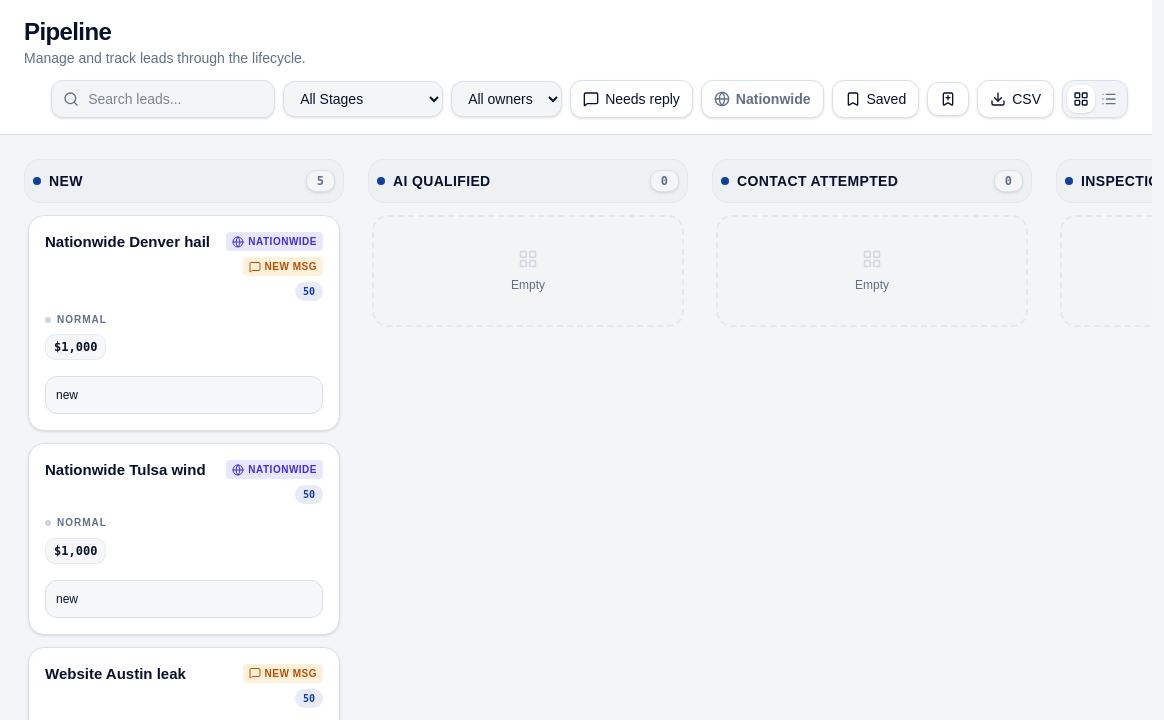
Pipeline compound filters › Mine + Needs-reply keeps my unread leads visible, hides other reps and answered leads; clearing Needs-reply widens back
expect the link "Nationwide Denver hail" is shown: met, box [45,232,210,253]
expect the link "Nationwide Tulsa wind" is shown: met, box [45,460,206,481]
Select "Mine" in the dropdown with test id "owner-filter" at (507, 99), box [451,81,562,117]
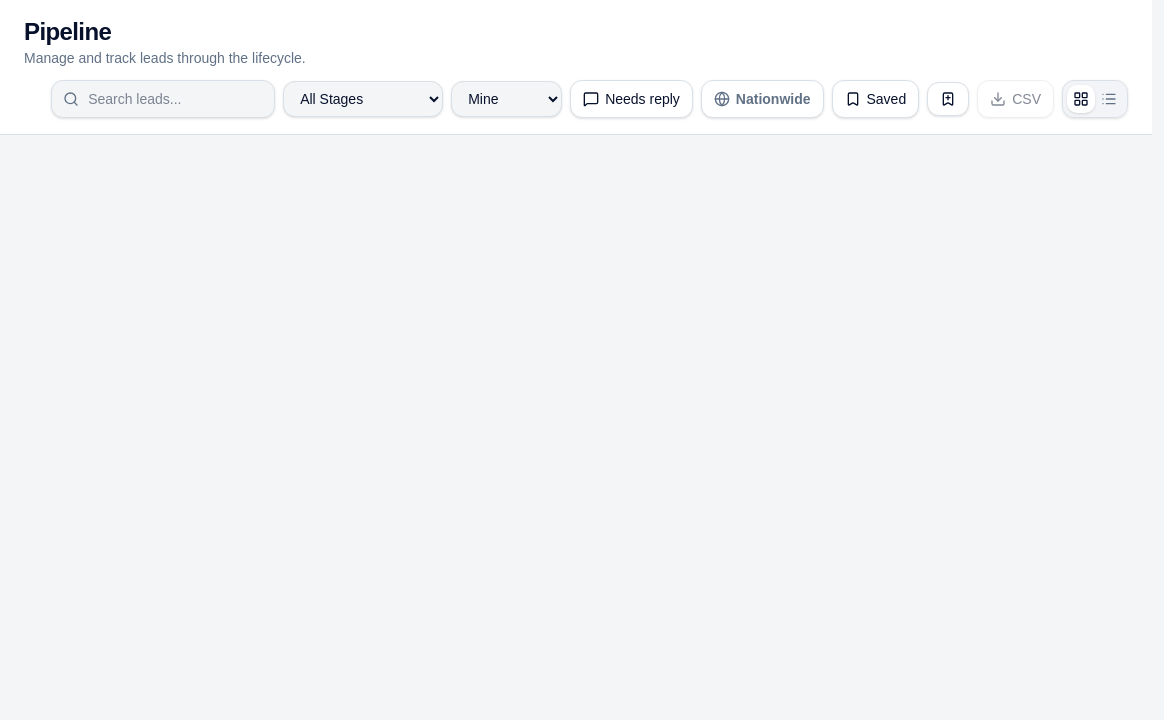
Click the button with test id "needs-reply-filter" at (631, 99), box [570,80,693,118]
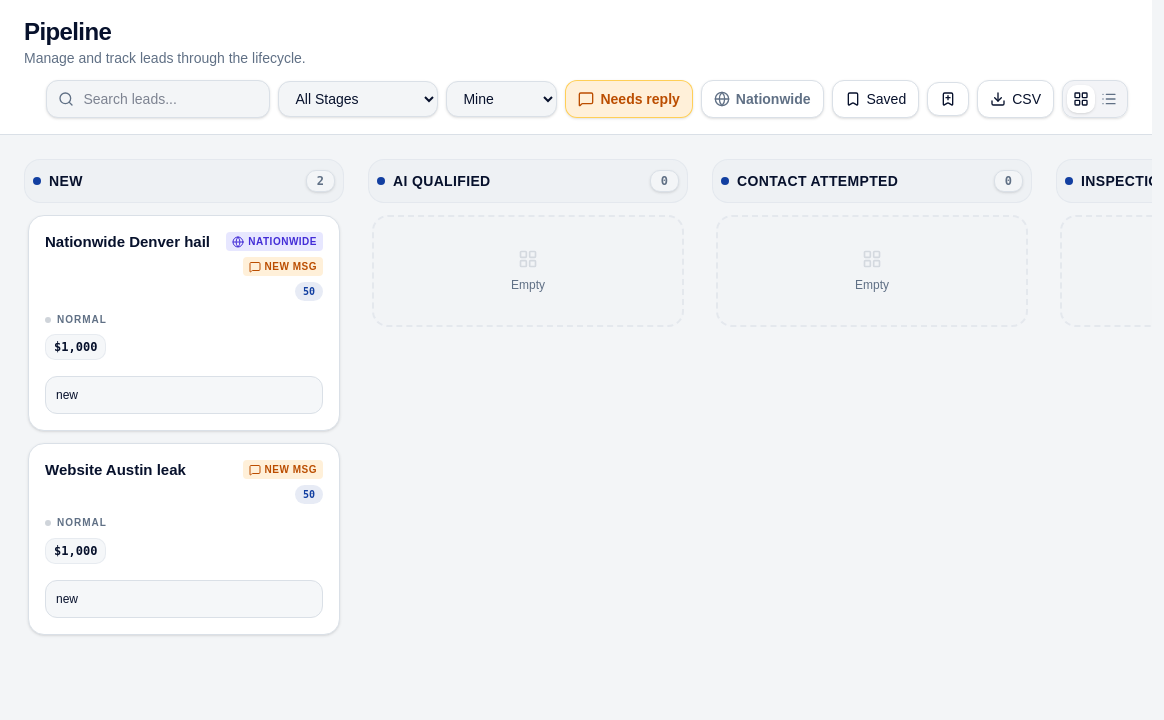
expect the text "Website Reno shingles" is not shown: met
expect the link "Nationwide Denver hail" is shown: met, box [45,232,210,253]
expect the link "Website Austin leak" is shown: met, box [45,460,186,481]
// Clearing Needs-reply widens back to all of MY leads (still not other reps').
Click the button with test id "needs-reply-filter" at (629, 99), box [566,80,693,118]
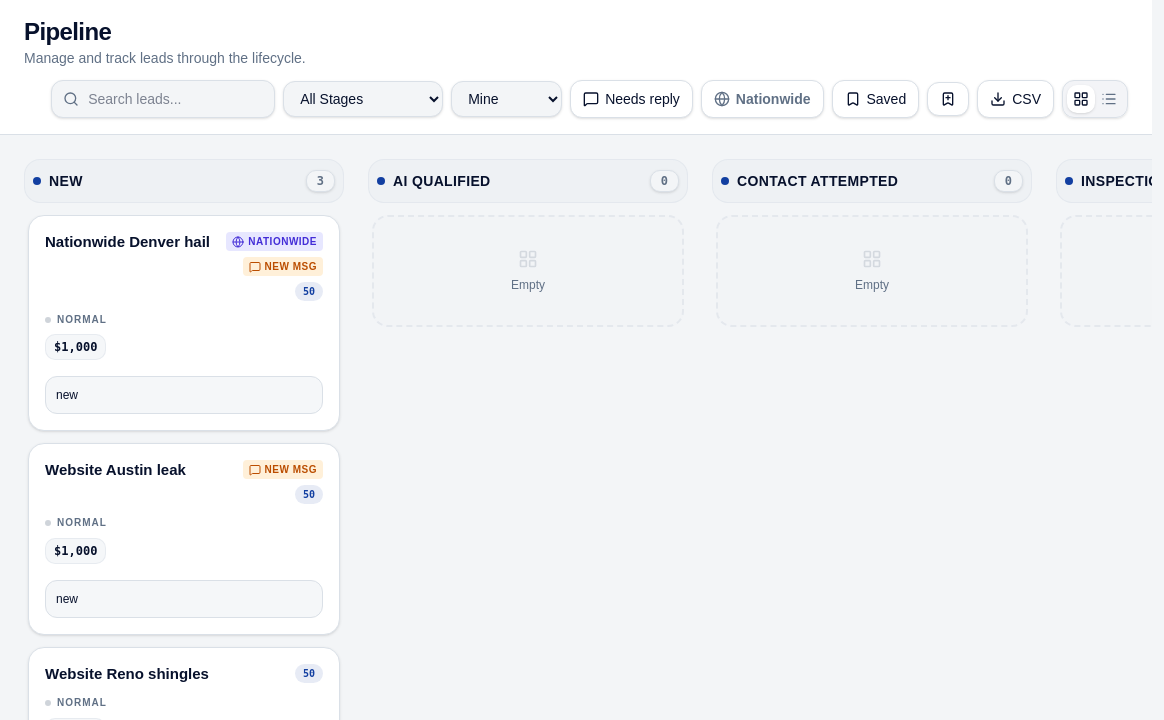
expect the link "Nationwide Denver hail" is shown: met, box [45,232,210,253]
expect the link "Website Austin leak" is shown: met, box [45,460,186,481]
expect the link "Website Reno shingles" is shown: met, box [45,664,209,684]
